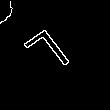L_SE: (20, 26, 78, 84)
